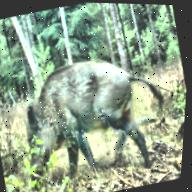boar: (1, 45, 170, 192)
